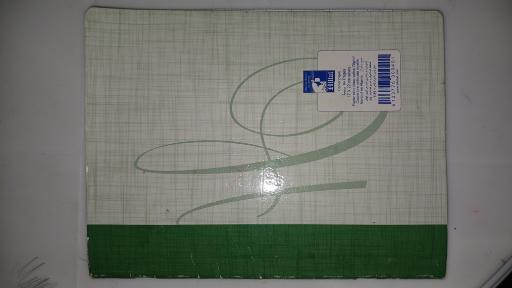notebook: (84, 7, 449, 279)
